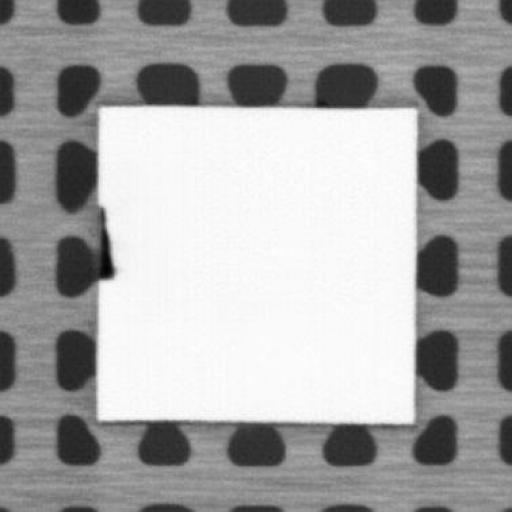DIE_BROKEN: (96, 203, 115, 282)
